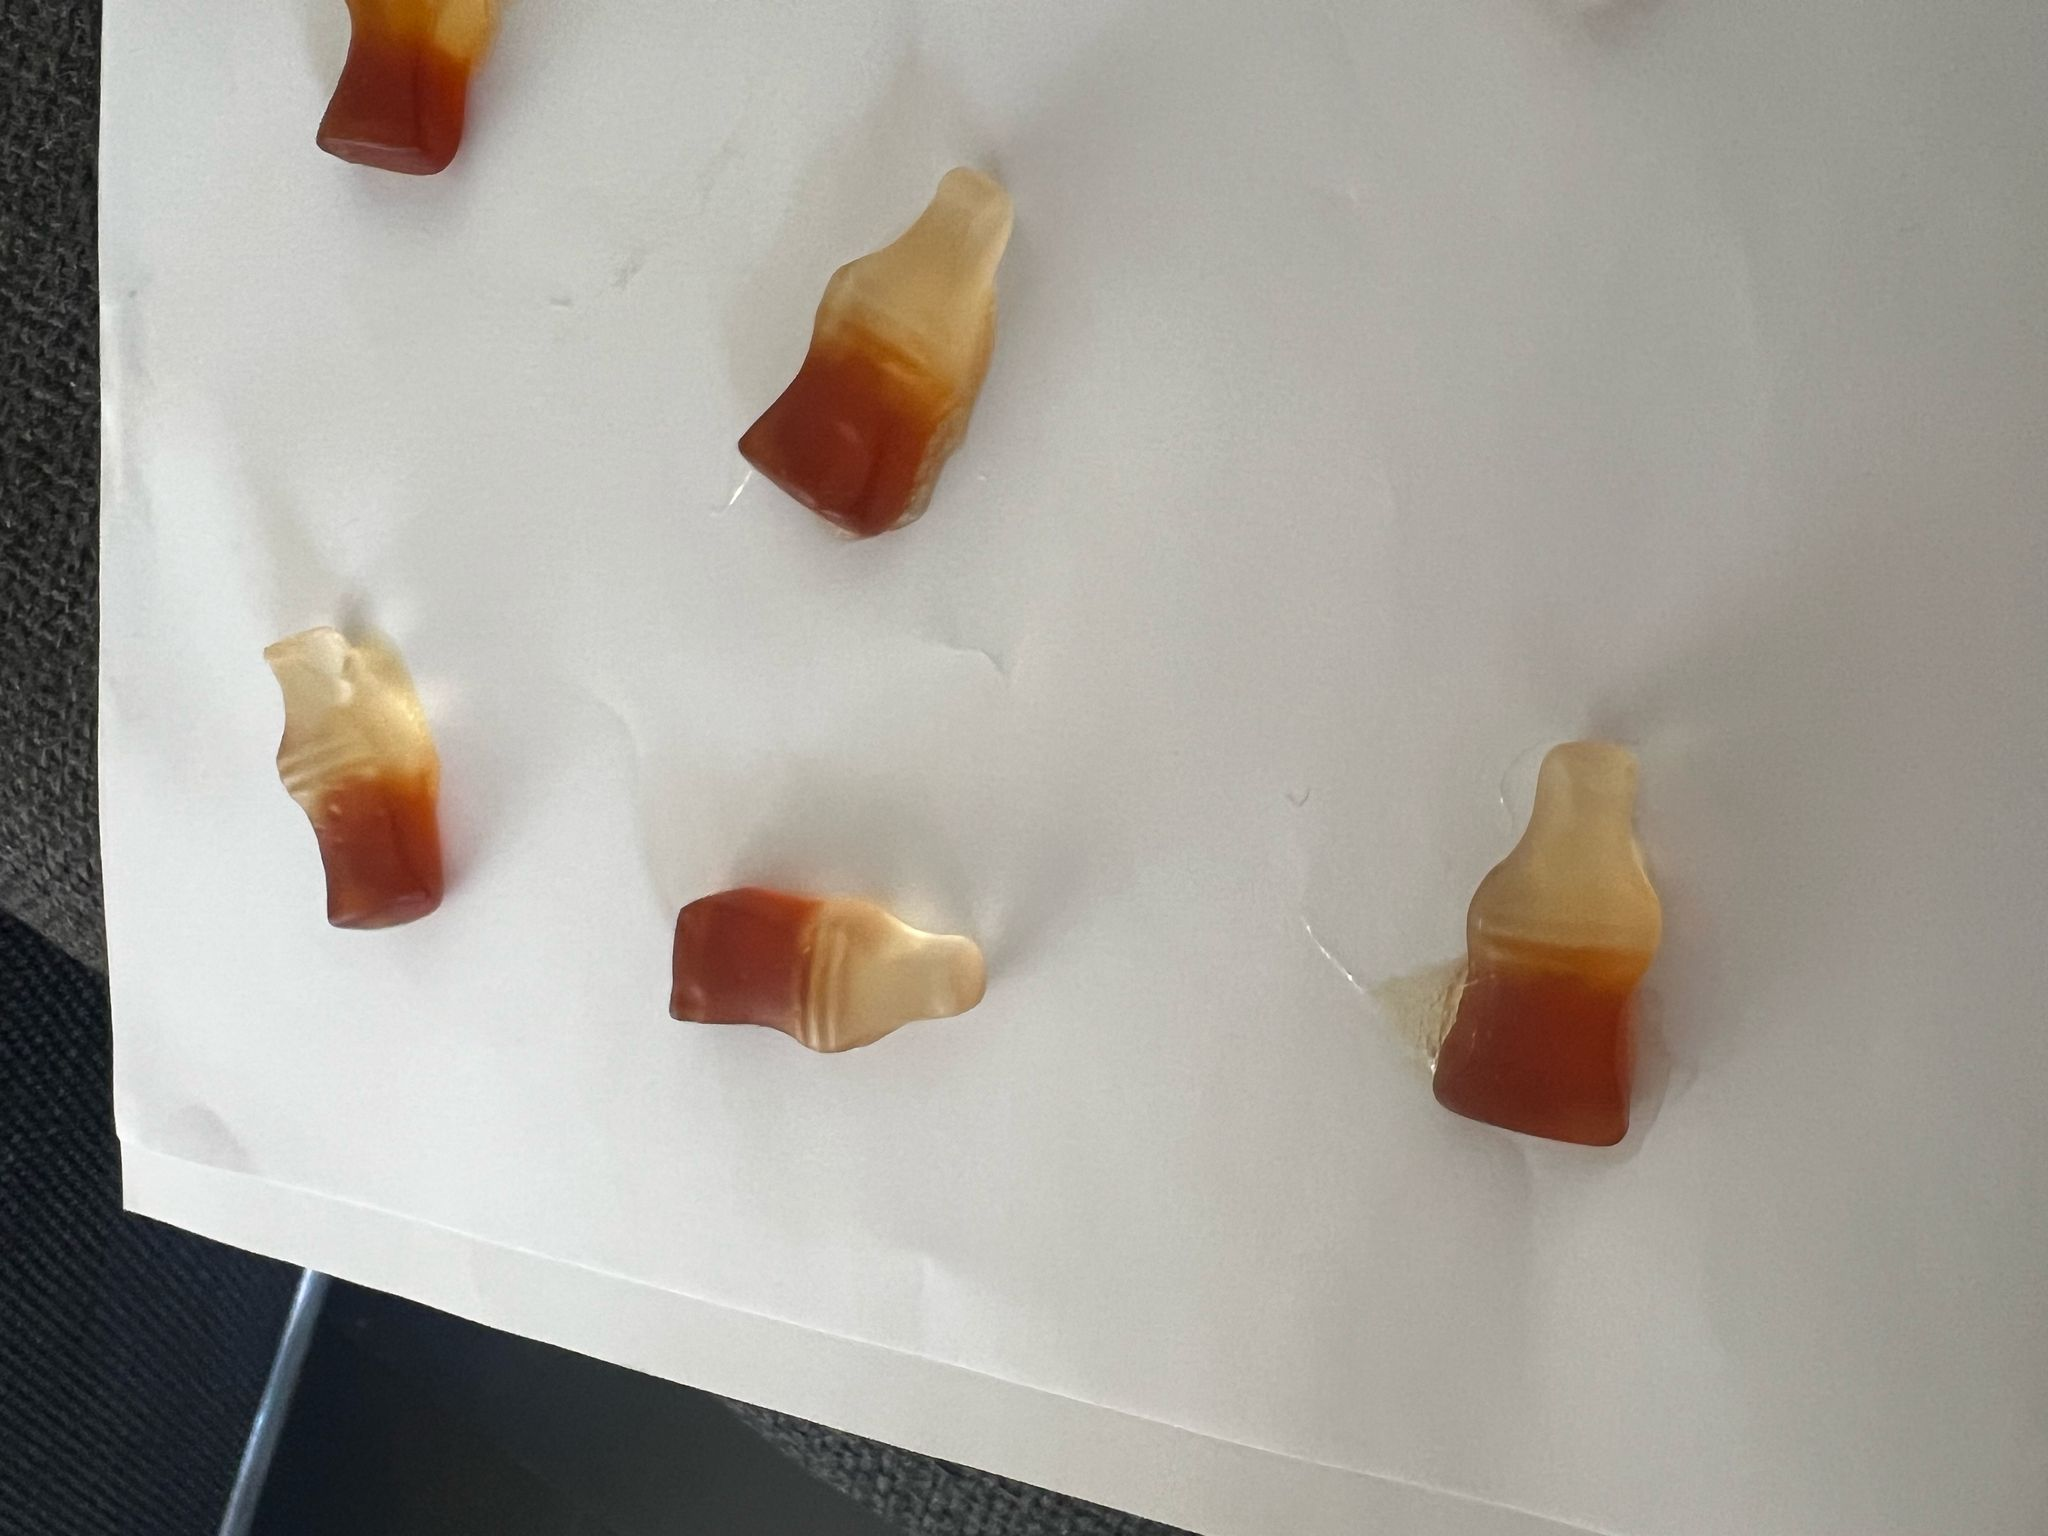cola: (726, 152, 1030, 544), (1424, 723, 1671, 1160), (252, 620, 452, 936), (666, 883, 990, 1062)
